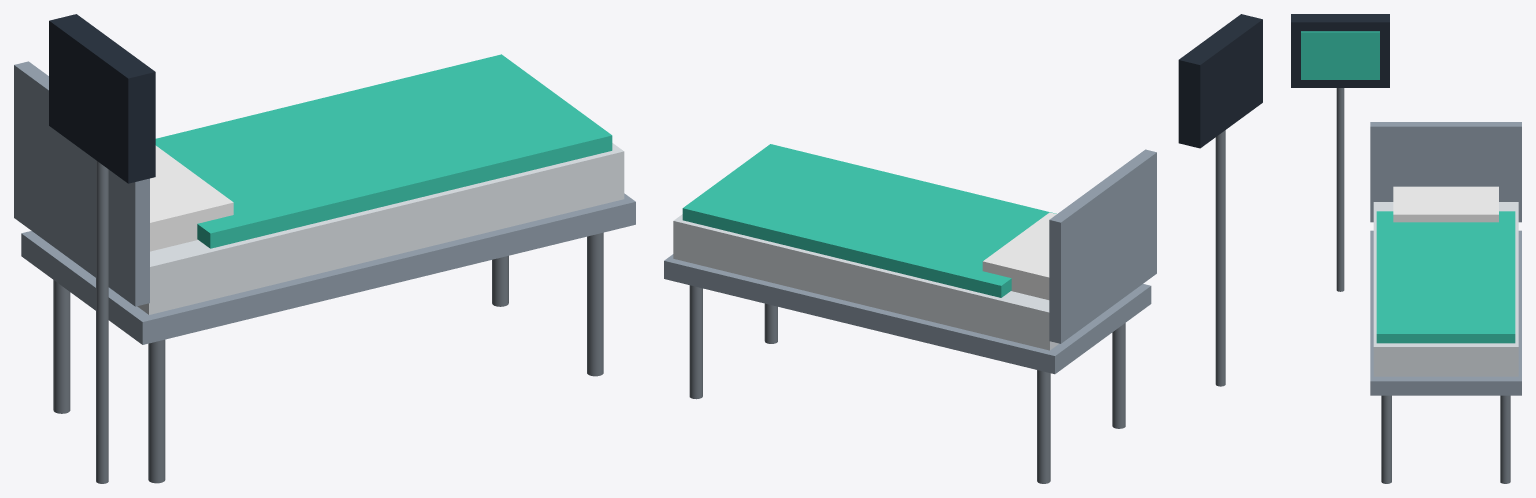
The model's file is med-clinic-bed.glb.
3 renders of one model, left to right at view 1: azimuth 30°, elevation 25°; view 2: azimuth 150°, elevation 25°; view 3: azimuth 270°, elevation 25°, orthographic. The views are drawn at different scales.
Parts seen in each view (by area): view 1: sheet, mattress, frame, headboard, monitor, pillow, monitor-pole, leg-3, leg-4, leg-1, leg-2; view 2: sheet, mattress, headboard, frame, monitor, pillow, monitor-pole, leg-1, leg-2, leg-3; view 3: sheet, headboard, mattress, frame, pillow, monitor-screen, monitor, monitor-pole, leg-2, leg-4.
Part boxes in pixels (x1,y1,x2,y2): sheet: (155,54,612,248); mattress: (137,143,624,314); frame: (21,193,635,344); headboard: (14,61,149,306); monitor: (49,14,155,183); pillow: (150,145,233,251); monitor-pole: (96,160,108,483); leg-3: (148,339,165,483); leg-4: (587,232,603,376); leg-1: (53,280,70,413); leg-2: (492,255,508,306); sheet: (682,144,1056,297); mattress: (673,214,1058,350); headboard: (1049,149,1156,343); frame: (664,254,1151,374); monitor: (1178,14,1262,148); pillow: (982,212,1056,299); monitor-pole: (1215,130,1225,386); leg-1: (1037,370,1050,483); leg-2: (689,285,702,399); leg-3: (1112,323,1125,428); sheet: (1376,211,1515,343); headboard: (1370,122,1521,222); mattress: (1373,202,1518,376); frame: (1370,230,1521,395); pillow: (1393,186,1498,222); monitor-screen: (1301,31,1379,79); monitor: (1291,14,1389,87); monitor-pole: (1336,88,1344,291); leg-2: (1500,395,1510,483); leg-4: (1381,395,1391,483).
Size of the model in its own units: 3.12 by 2.53 by 1.75.
